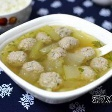dongguawanzi: (1, 23, 112, 91)
